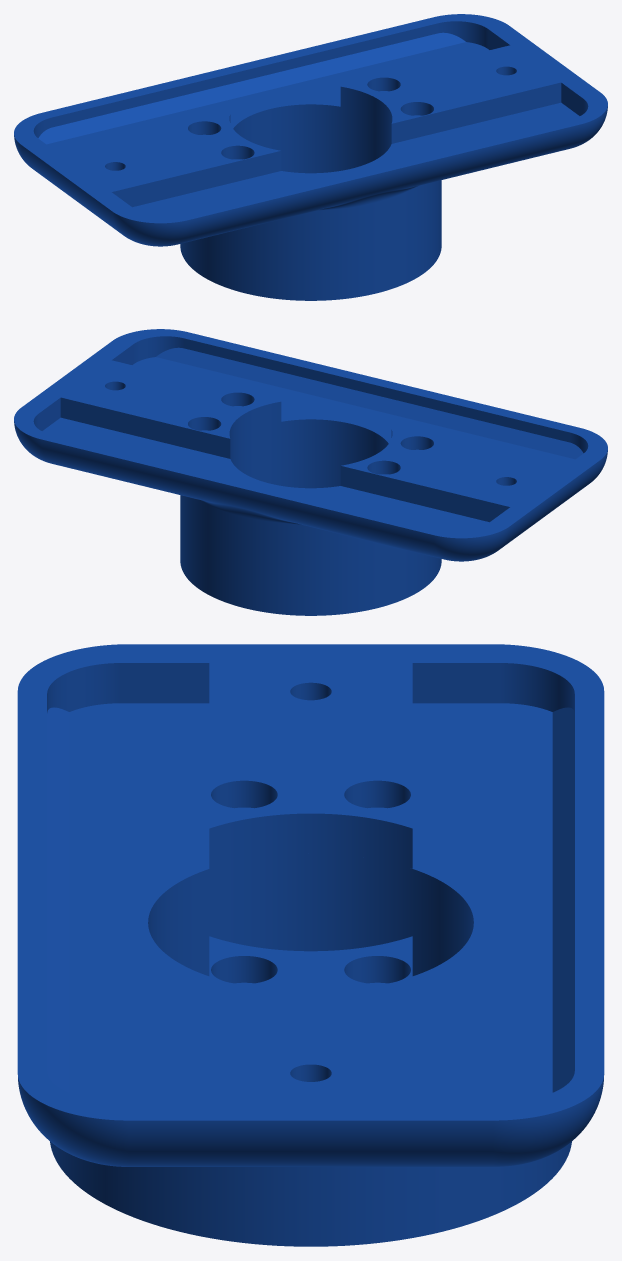
Rendered from Assembly 2 - Gripper rack & shaft housing.obj.
The picture shows the model from 3 angles, top to bottom: view 1: azimuth 30°, elevation 25°; view 2: azimuth 150°, elevation 25°; view 3: azimuth 270°, elevation 25°; orthographic projection. The views are drawn at different scales.
Parts seen in each view (by area): view 1: mesh4, mesh46, mesh18, mesh23, mesh41, mesh17, mesh16, mesh13, mesh8, mesh32, mesh34, mesh15 (+4 smaller); view 2: mesh4, mesh46, mesh18, mesh23, mesh40, mesh22, mesh21, mesh5, mesh12, mesh33, mesh34, mesh19 (+4 smaller); view 3: mesh4, mesh18, mesh46, mesh23, mesh37, mesh17, mesh22, mesh11, mesh36, mesh38, mesh6, mesh7 (+6 smaller).
Part boxes in pixels (x1,y1,x2,y2): mesh4: [14, 14, 607, 223]; mesh46: [180, 180, 441, 300]; mesh18: [47, 42, 579, 215]; mesh23: [233, 86, 392, 173]; mesh41: [180, 125, 580, 243]; mesh17: [38, 32, 465, 144]; mesh16: [52, 23, 437, 127]; mesh13: [391, 82, 561, 143]; mesh8: [112, 151, 281, 207]; mesh32: [112, 212, 188, 246]; mesh34: [21, 145, 120, 233]; mesh15: [437, 21, 488, 48]; mesh4: [14, 329, 607, 538]; mesh46: [180, 495, 441, 615]; mesh18: [42, 357, 574, 530]; mesh23: [229, 401, 388, 488]; mesh40: [41, 440, 441, 558]; mesh22: [156, 347, 583, 459]; mesh21: [184, 338, 569, 442]; mesh5: [60, 397, 230, 458]; mesh12: [340, 466, 509, 522]; mesh33: [433, 527, 509, 561]; mesh34: [501, 460, 600, 548]; mesh19: [133, 336, 184, 363]; mesh4: [17, 644, 604, 1120]; mesh18: [69, 703, 552, 1101]; mesh46: [50, 1141, 571, 1246]; mesh23: [148, 853, 473, 975]; mesh37: [129, 1121, 492, 1166]; mesh17: [552, 707, 574, 1092]; mesh22: [47, 707, 69, 1092]; mesh11: [209, 813, 412, 868]; mesh36: [18, 1078, 128, 1166]; mesh38: [493, 1078, 603, 1166]; mesh6: [412, 663, 500, 703]; mesh7: [121, 663, 209, 703].
Size of the model in its own units: 0.0761 by 0.0189 by 0.0396.
